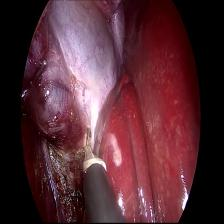Hook: (80, 124, 108, 190)
